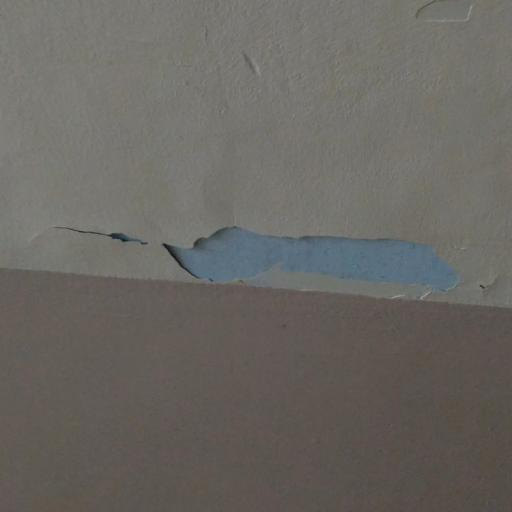peeling: (54, 199, 469, 313)
